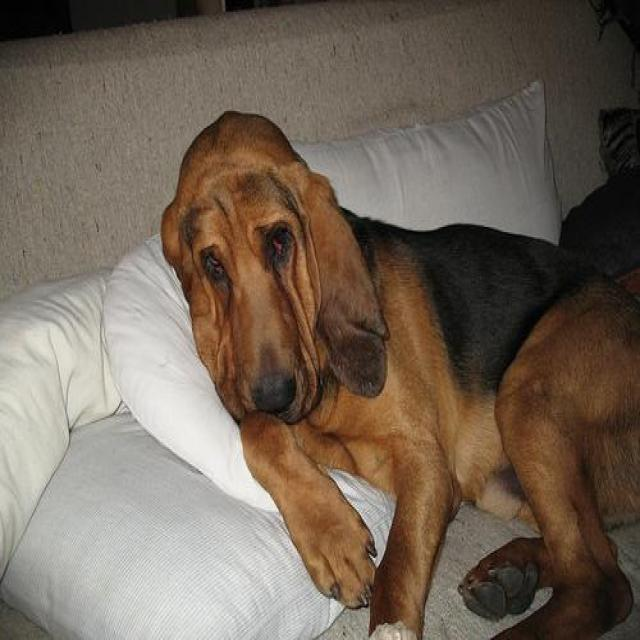bloodhound: (158, 107, 638, 638)
